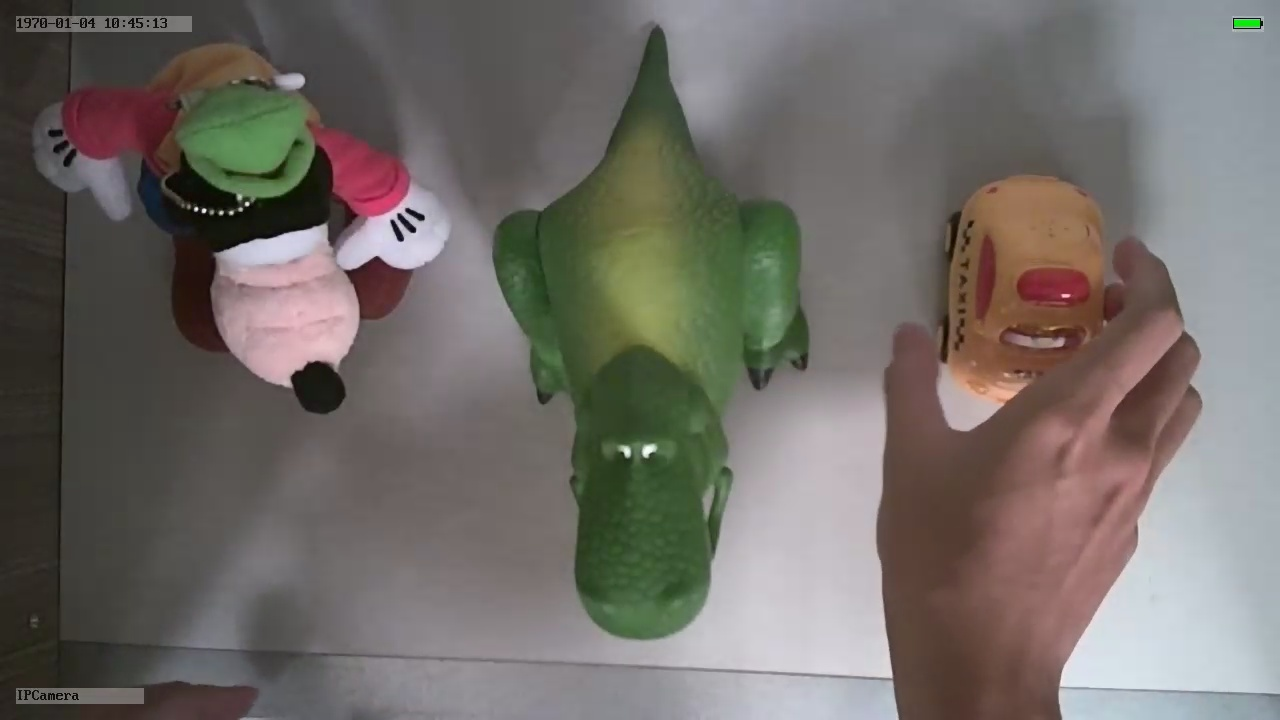goofy: (29, 41, 453, 413)
rex: (490, 106, 812, 644)
